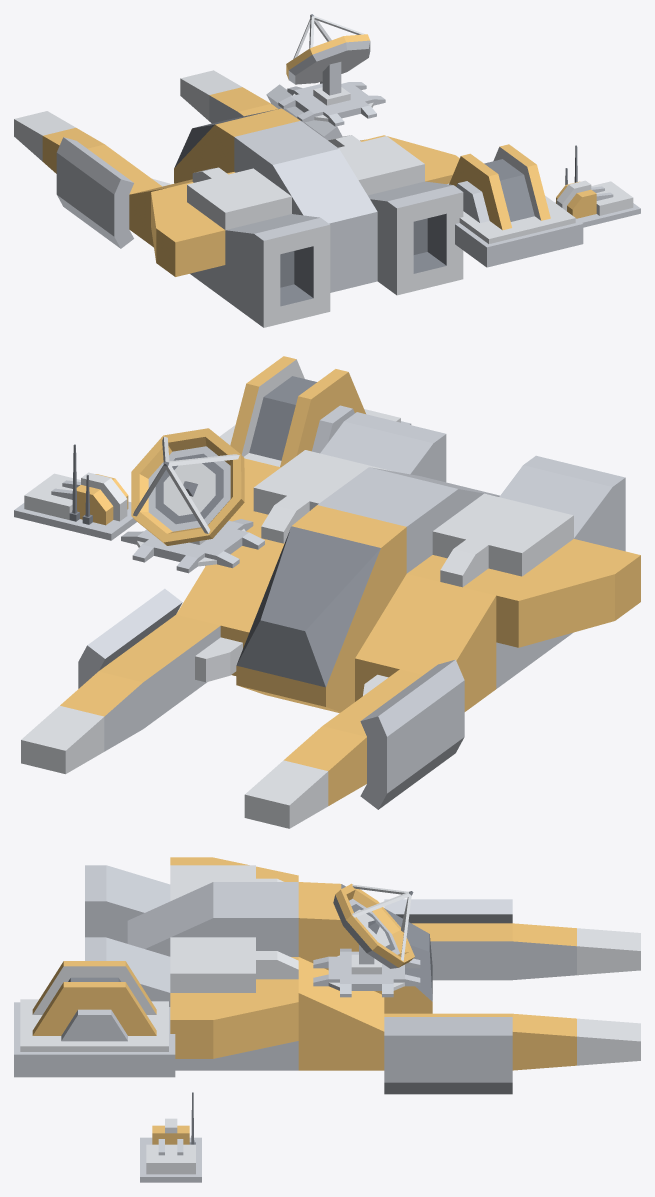
Rendered from miner_lvl3.glb.
3 renders of one model, top to bottom at view 1: azimuth 30°, elevation 25°; view 2: azimuth 150°, elevation 25°; view 3: azimuth 270°, elevation 25°, orthographic. The views are drawn at different scales.
Parts seen in each view (by area): view 1: craft_miner.001, machine_generatorLarge.001, satelliteDish_detailed.001, machine_wireless.001; view 2: craft_miner.001, satelliteDish_detailed.001, machine_generatorLarge.001, machine_wireless.001; view 3: craft_miner.001, machine_generatorLarge.001, satelliteDish_detailed.001, machine_wireless.001.
Boxes of the visible parts, box(x1,y1,x2,y2) form: craft_miner.001: box(14, 70, 463, 327); machine_generatorLarge.001: box(447, 144, 583, 267); satelliteDish_detailed.001: box(278, 14, 385, 126); machine_wireless.001: box(555, 145, 640, 227); craft_miner.001: box(21, 412, 640, 828); satelliteDish_detailed.001: box(121, 428, 264, 573); machine_generatorLarge.001: box(219, 356, 411, 467); machine_wireless.001: box(14, 444, 136, 540); craft_miner.001: box(85, 857, 640, 1094); machine_generatorLarge.001: box(14, 961, 175, 1077); satelliteDish_detailed.001: box(313, 883, 420, 997); machine_wireless.001: box(140, 1092, 201, 1182).
Bounding box in the file's own units: 3.04 × 1.14 × 3.28.
